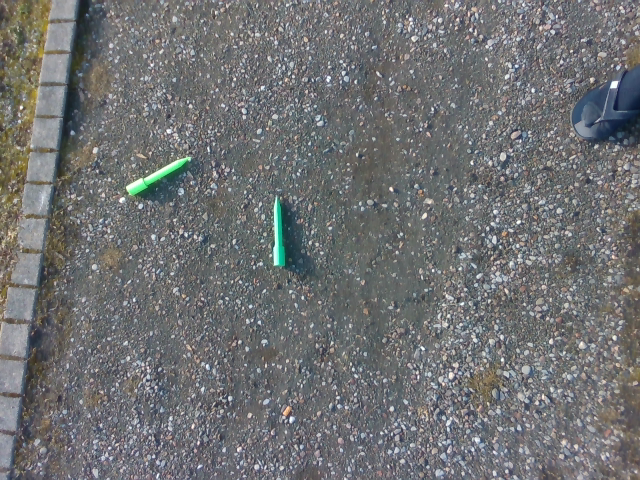Probe: (123, 150, 195, 202), (269, 190, 290, 271)
